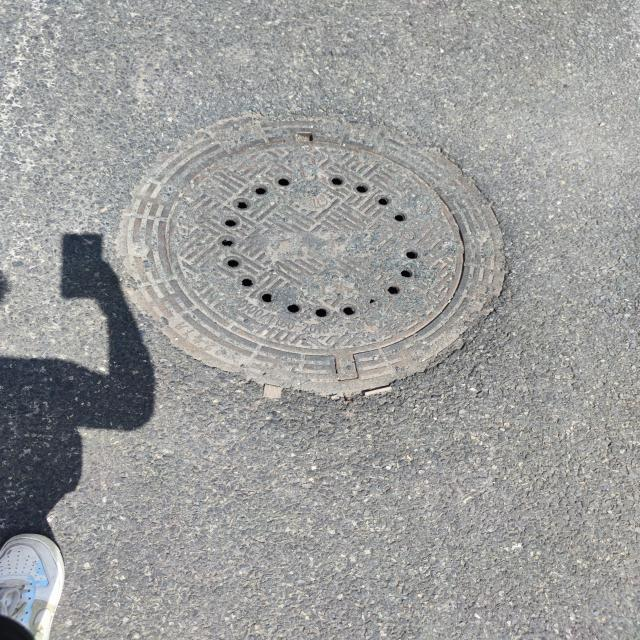Good: (108, 104, 526, 407)
